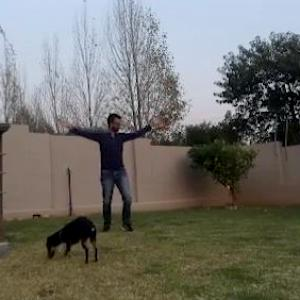takeoff: (42, 110, 160, 244)
